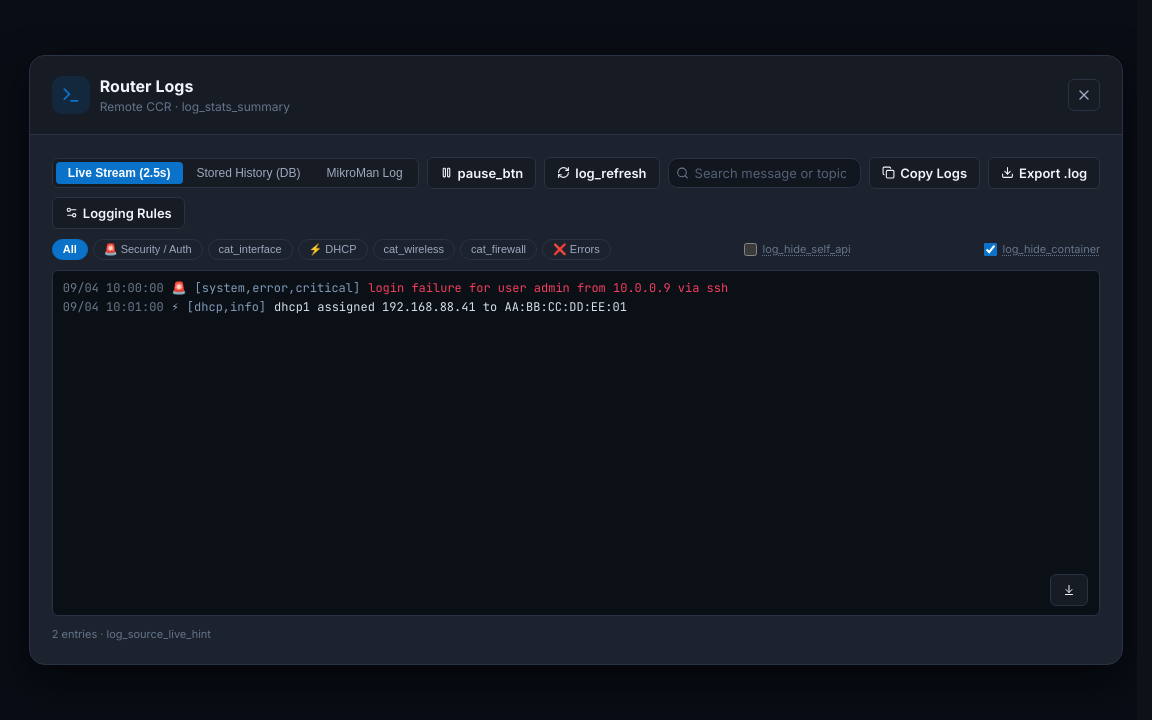
Test: RouterLogsModal hide-own-logins toggle › allows changing log limit via presets and custom manual input
# Switch to Stored History (DB)
Click the button "Stored History (DB)": {"x": 248, "y": 173} [184,162,312,184]
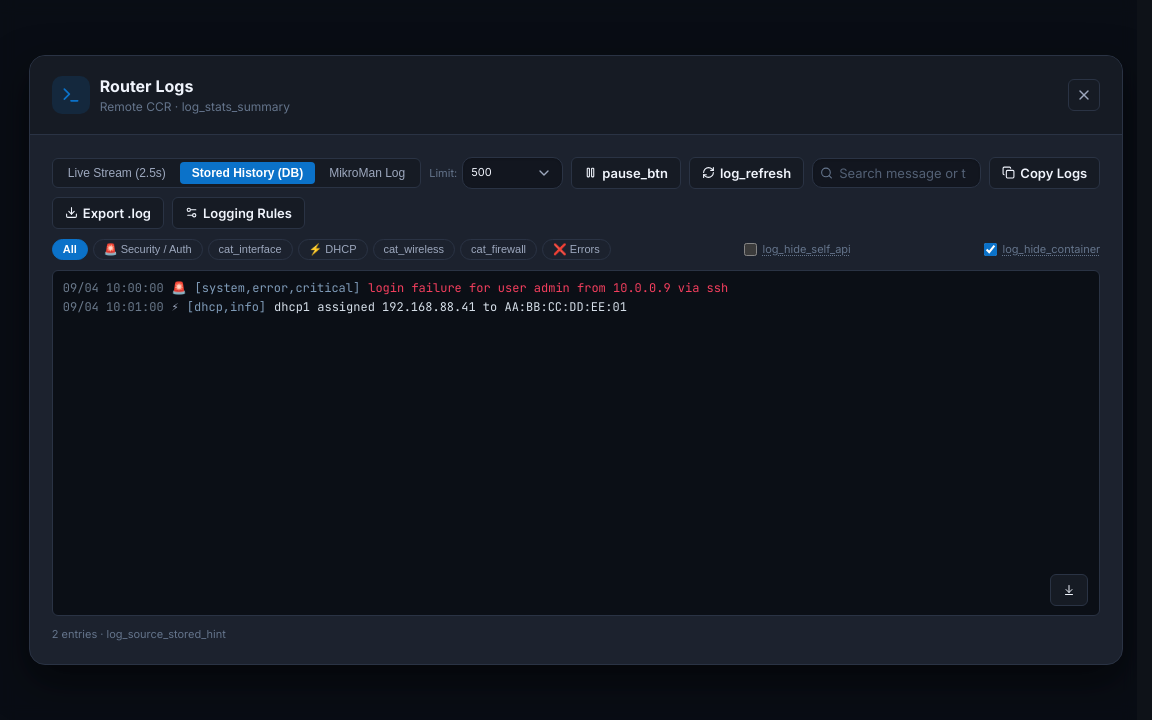
Check: the text "Limit:" is shown, box [429,165,457,181]
Check: the dropdown is shown
# Select custom option
Select "✏️ Custom..." in the dropdown: {"x": 513, "y": 173} [462,157,563,189]
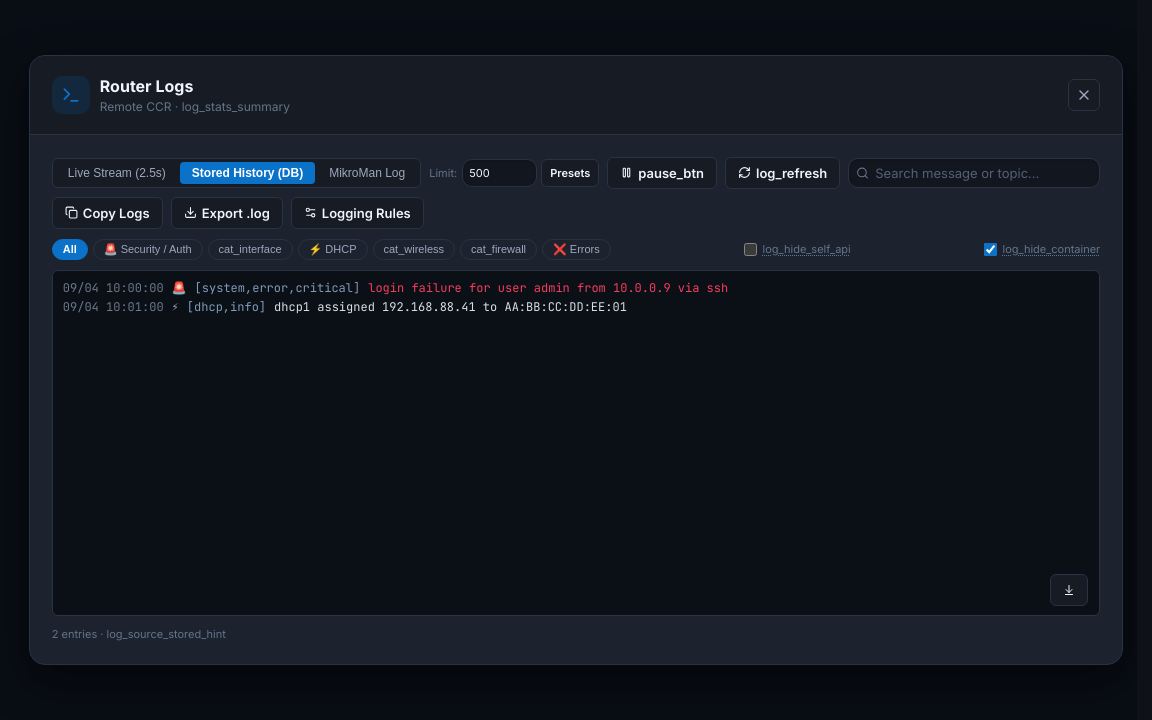
Check: the number field titled "10 - 50 000" is shown
# Enter custom limit and blur
Replace the text in the number field titled "10 - 50 000" with "1250": {"x": 500, "y": 173} [462,159,537,187]
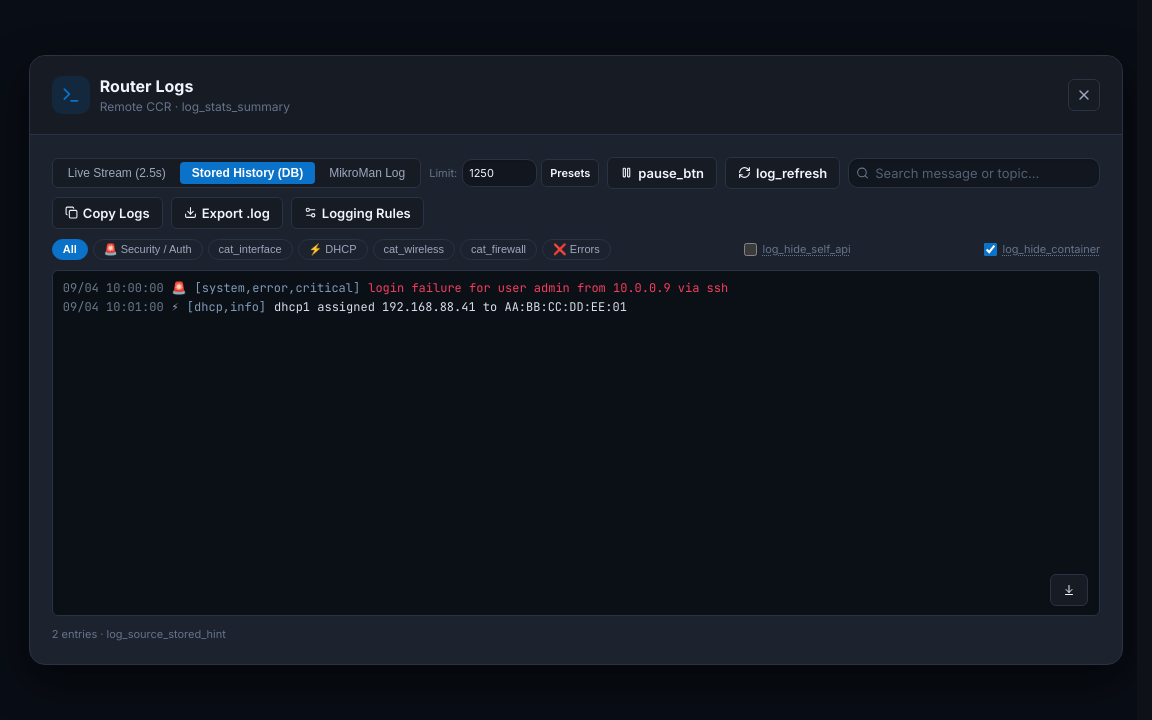
# Switch back to presets
Click the button "Presets": {"x": 570, "y": 173} [541,159,599,187]
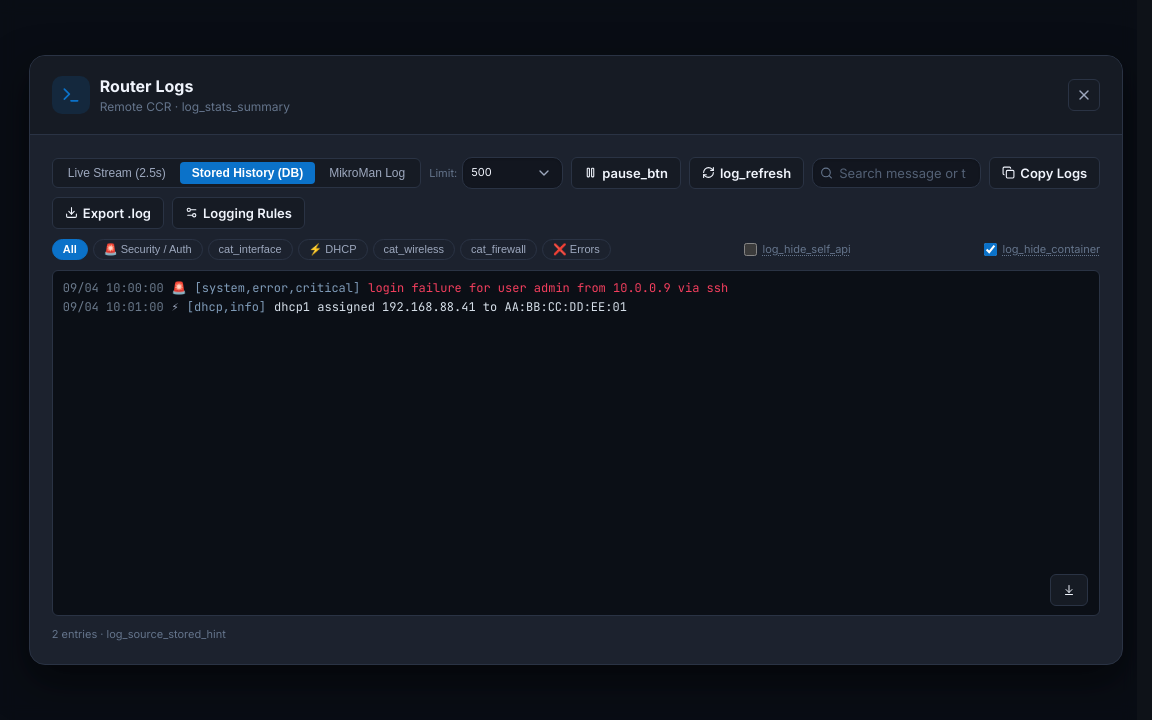
Check: the dropdown is shown, box [462,157,563,189]
